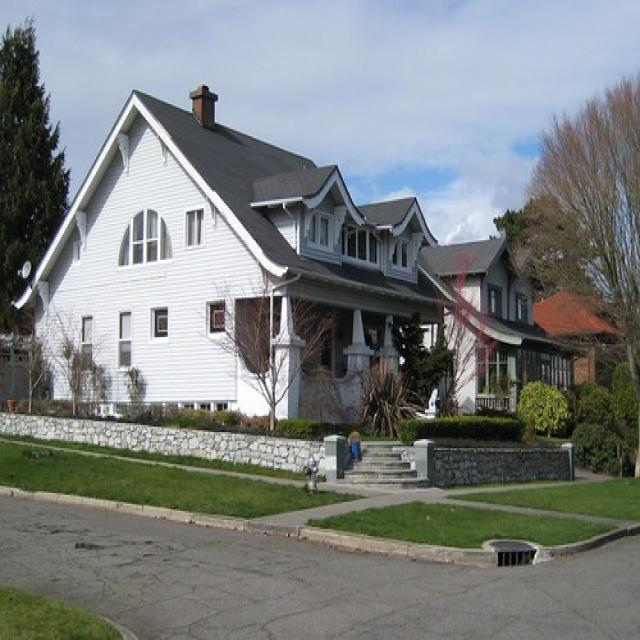building: (15, 84, 581, 436)
